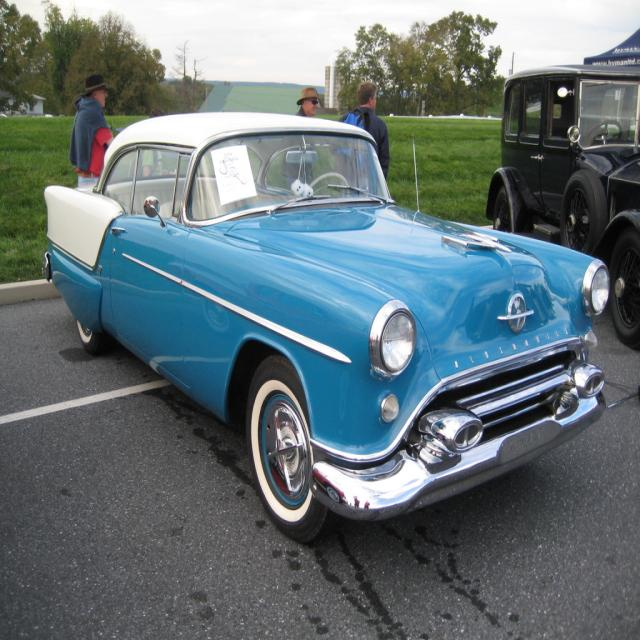car: (42, 112, 606, 526)
